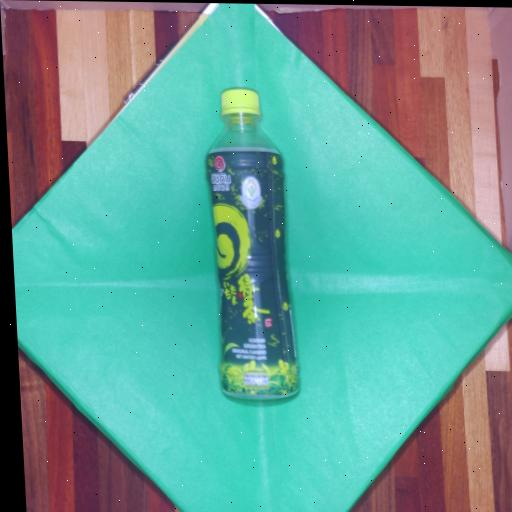bottle: (175, 73, 326, 415)
